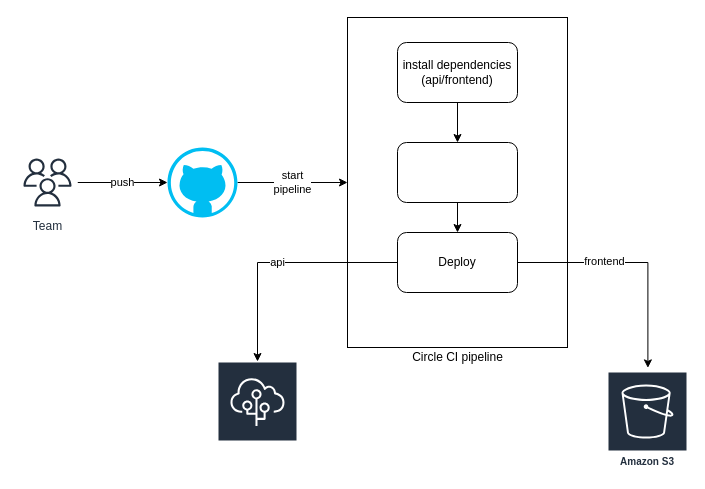
Some shapes in this 705 by 489 pixel diagram are drawn without their labels. Each missing label, with the centre of its shape:
AWS Elastic Beanstalk: point (257, 416)
build (api/frontend): point (457, 172)
github: point (202, 182)
